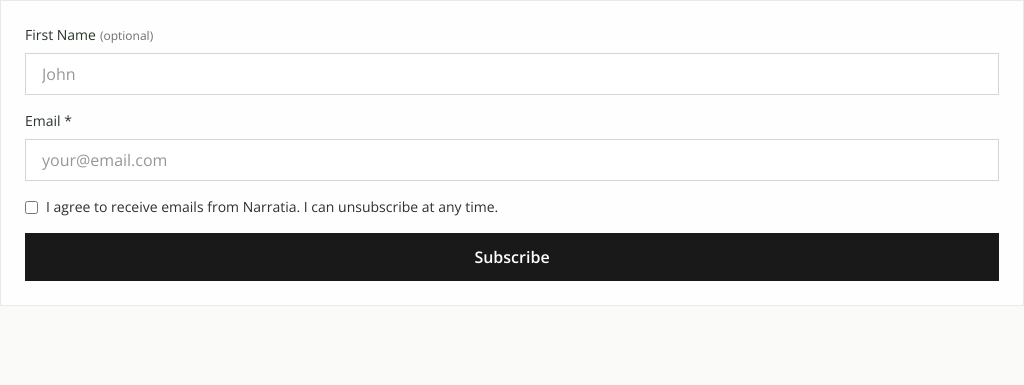
Scenario: EmailSignupForm › Success Flow › should display success message after subscription
In the field labelled "Email *": (512, 160) [25,139,999,181], type "test@example.com"
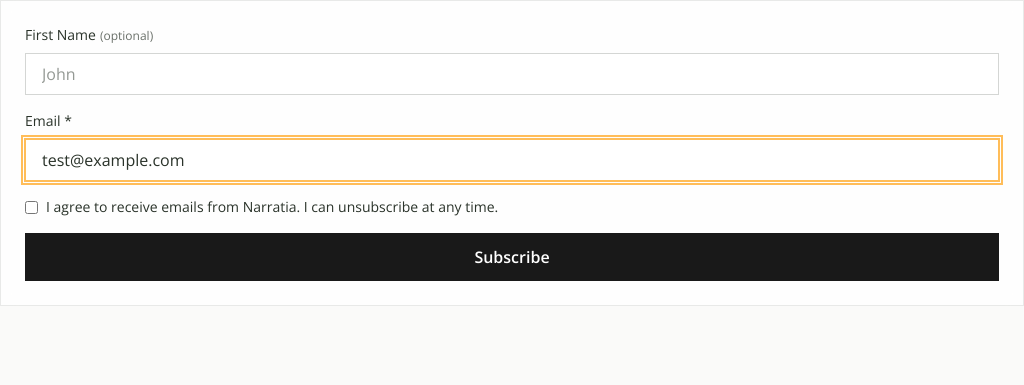
Click the checkbox: (32, 208) [25,201,38,214]
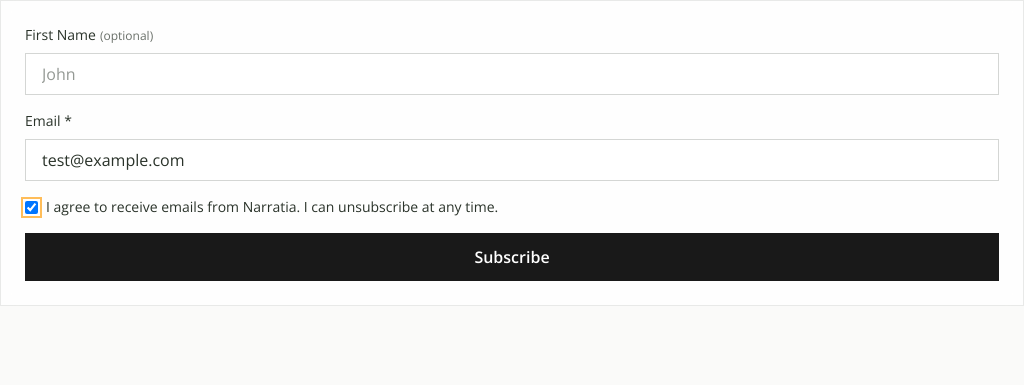
Click the button "Subscribe": (512, 257) [25,233,999,281]
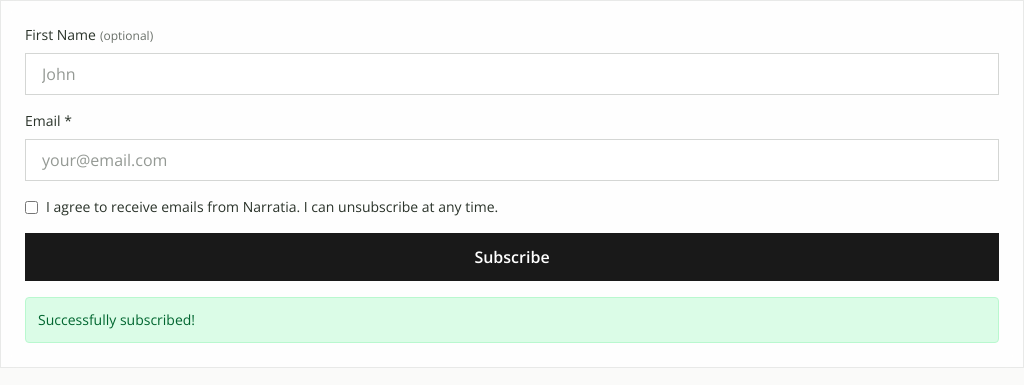
expect the text "Successfully subscribed!" is shown: met, box [25,297,999,343]
